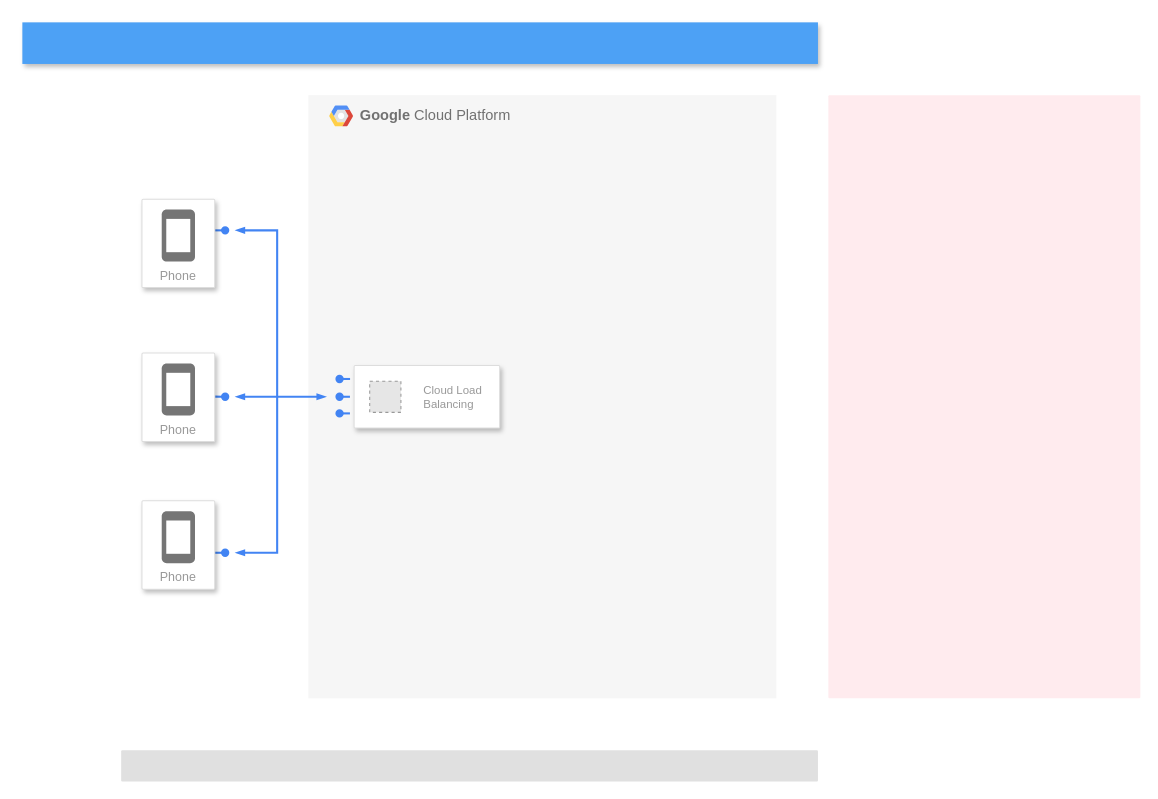
Image size: 1158x799. Some labels were removed from this diagram. Grey dashed boxes stand in for pictures. The shapes that lost their labels are listed below. From the top down, each one's centre as x and y in pixels, then its label:
At (421,44): "Architecture: General > App Engine and Cloud Endpoints".
At (984,396): "External DBaaS Providers".
